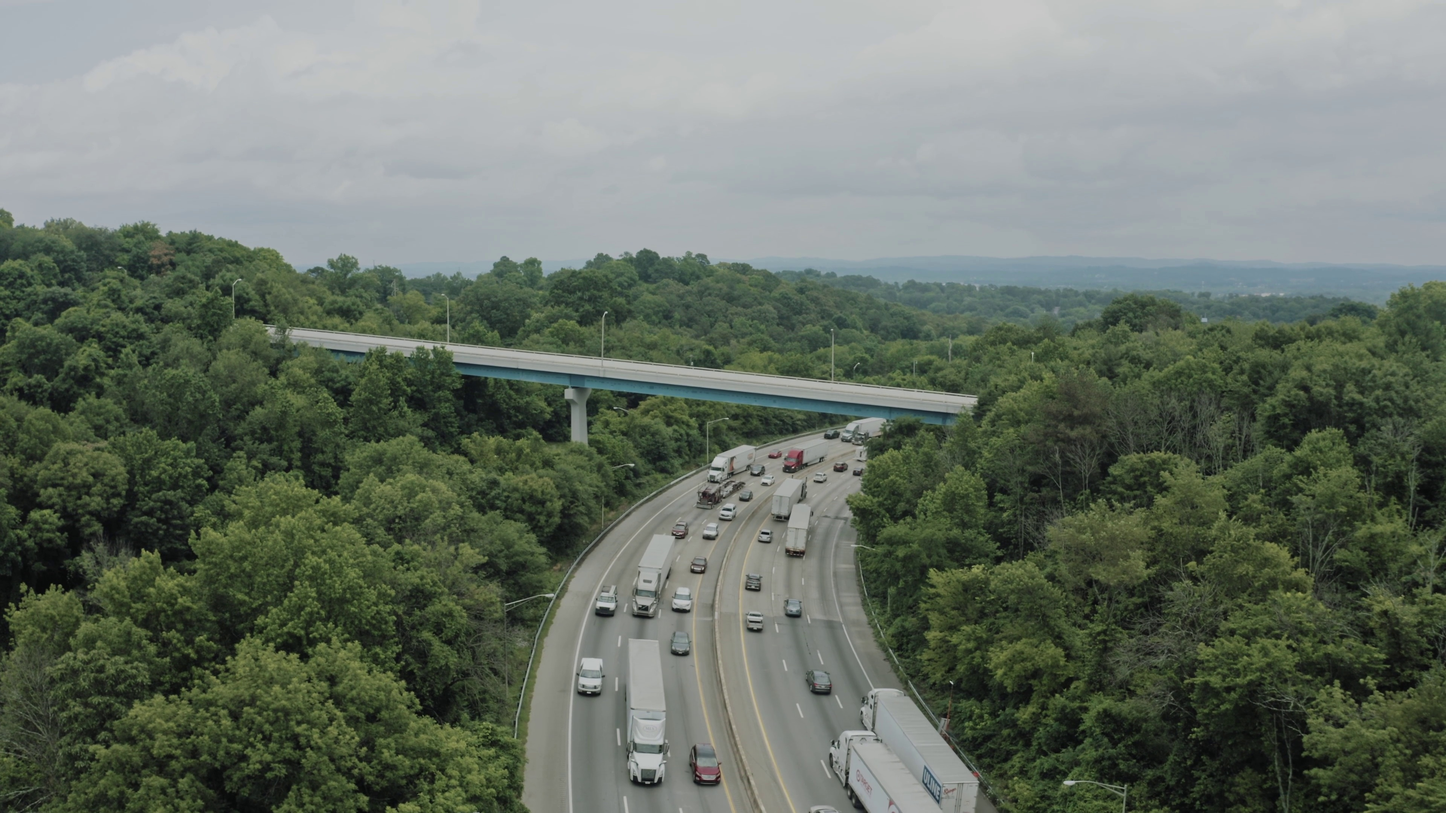Vehicle: (618, 709, 675, 790), (828, 730, 882, 789), (854, 681, 909, 729), (628, 572, 666, 617), (688, 743, 722, 786), (576, 658, 605, 696), (696, 482, 722, 510), (595, 585, 618, 616), (707, 457, 733, 483), (805, 669, 832, 694), (671, 587, 693, 613), (670, 631, 692, 656), (782, 449, 803, 473), (745, 611, 764, 631), (841, 424, 859, 444), (783, 599, 802, 617), (718, 503, 737, 521), (690, 556, 708, 574), (745, 573, 762, 591), (671, 522, 689, 539), (702, 523, 719, 540), (854, 445, 873, 459), (809, 805, 842, 813), (758, 529, 773, 543), (761, 472, 775, 485), (739, 489, 753, 502), (750, 464, 765, 476), (833, 461, 848, 472), (813, 472, 827, 483), (824, 430, 840, 439), (768, 449, 782, 459), (853, 467, 864, 476)
